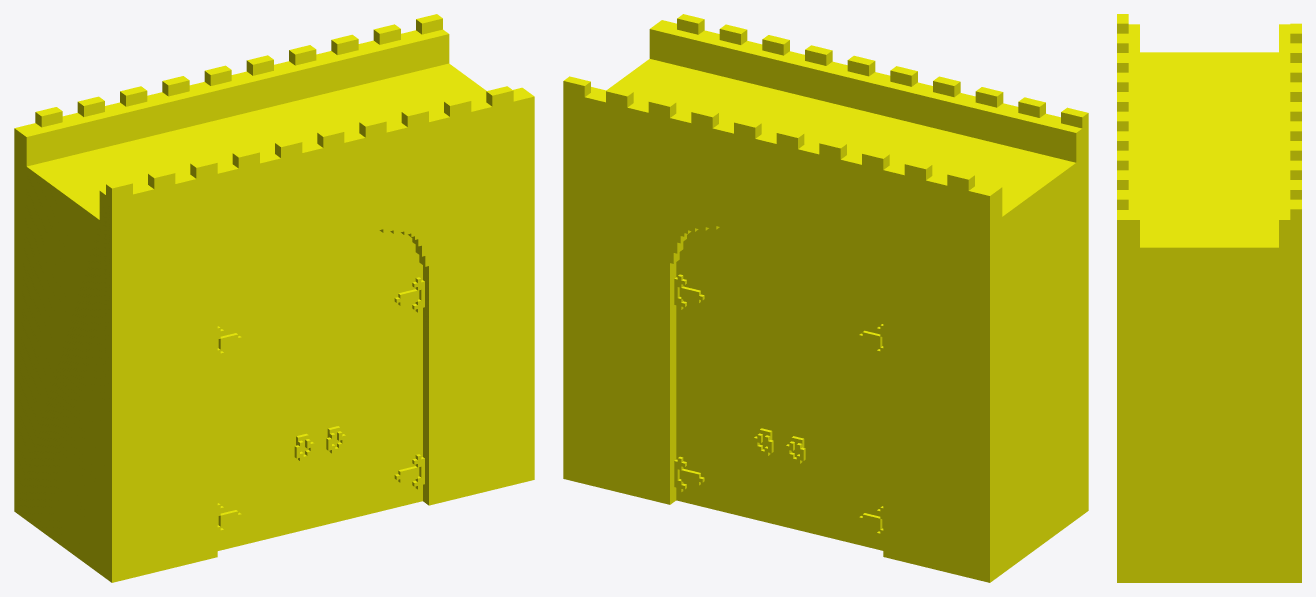
Rendered from voxel-knights-gate.glb.
The picture shows the model from 3 angles, left to right: view 1: azimuth 30°, elevation 25°; view 2: azimuth 150°, elevation 25°; view 3: azimuth 270°, elevation 25°; orthographic projection. The views are drawn at different scales.
Parts seen in each view (by area): view 1: ObjObject.006; view 2: ObjObject.006; view 3: ObjObject.006.
Part boxes in pixels (<box>): ObjObject.006: <box>14,14,534,582</box>; ObjObject.006: <box>563,14,1088,582</box>; ObjObject.006: <box>1117,14,1301,582</box>.
Bounding box in the file's own units: 12 × 10.7 × 4.8.
